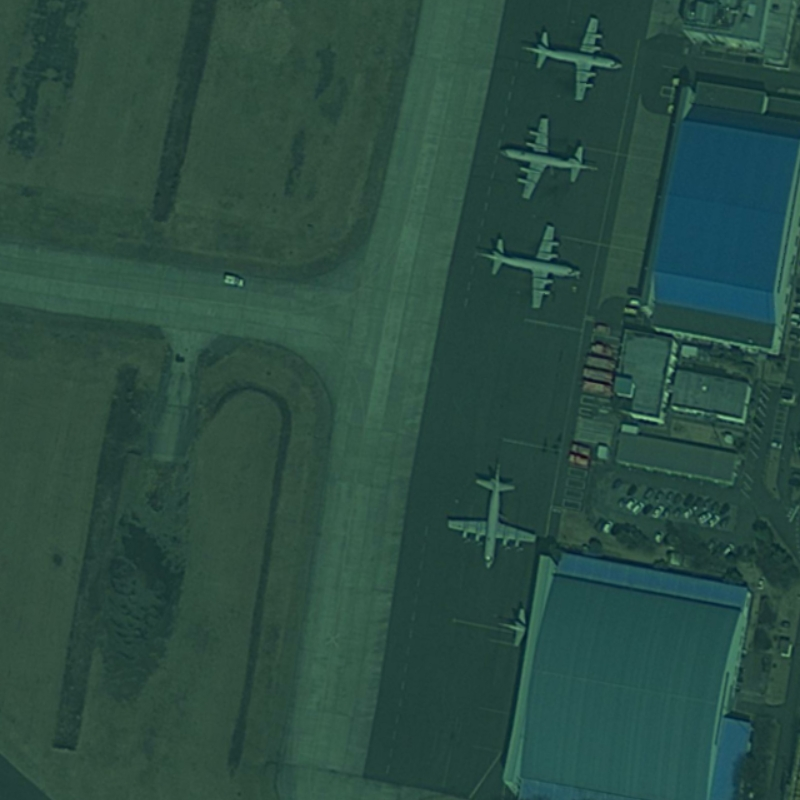A9: (468, 218, 592, 317), (443, 456, 539, 575), (516, 11, 632, 106), (493, 112, 606, 203)
